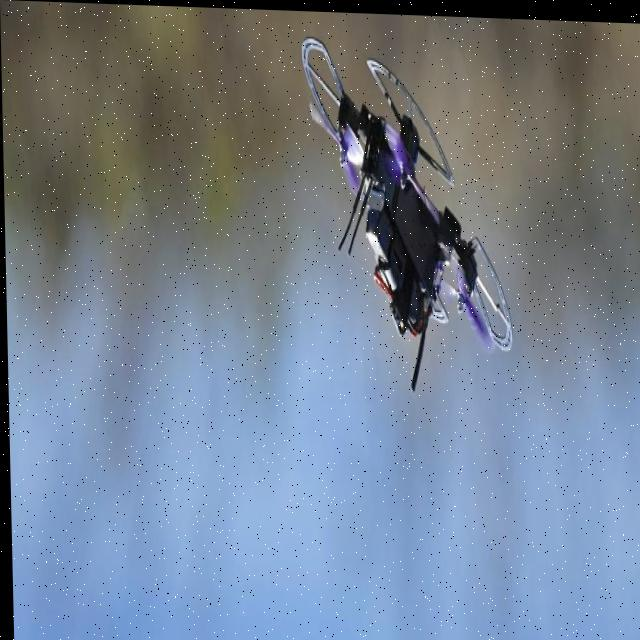drone: (294, 9, 533, 395)
